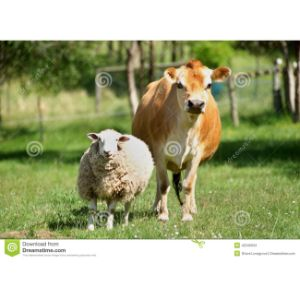cow: (154, 57, 234, 222)
sheep: (79, 129, 151, 233)
